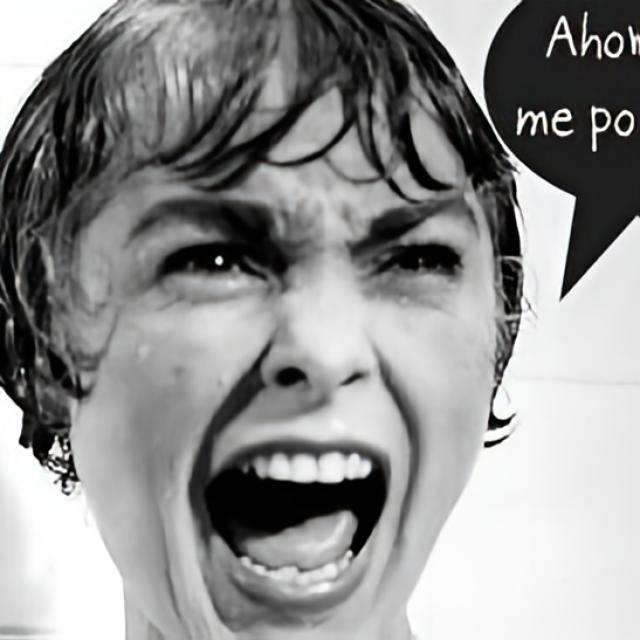fear: (58, 5, 501, 640)
